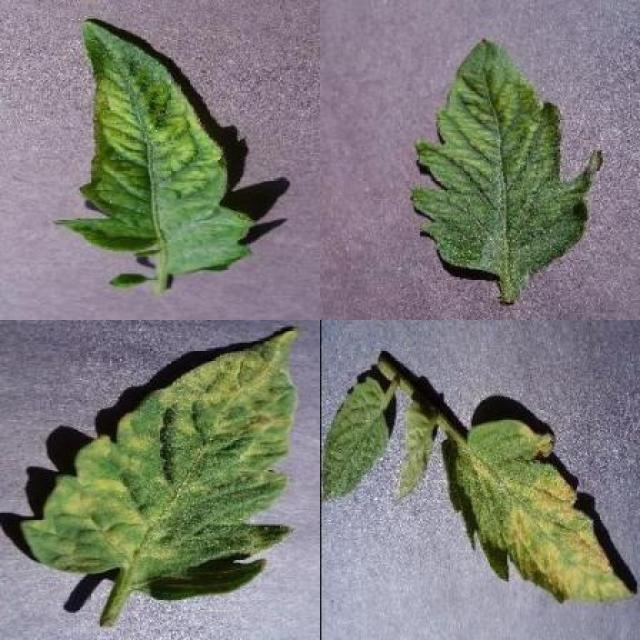Healthy: (320, 375, 393, 502)
Leaf Mold: (23, 328, 296, 602), (438, 421, 638, 606)
Mosaic Virus: (56, 19, 256, 274), (409, 39, 604, 275)
